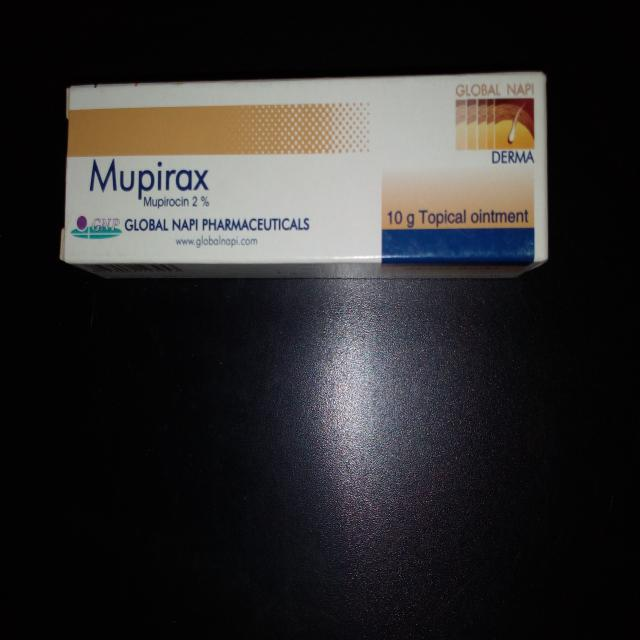Medicine: (55, 64, 558, 288)
